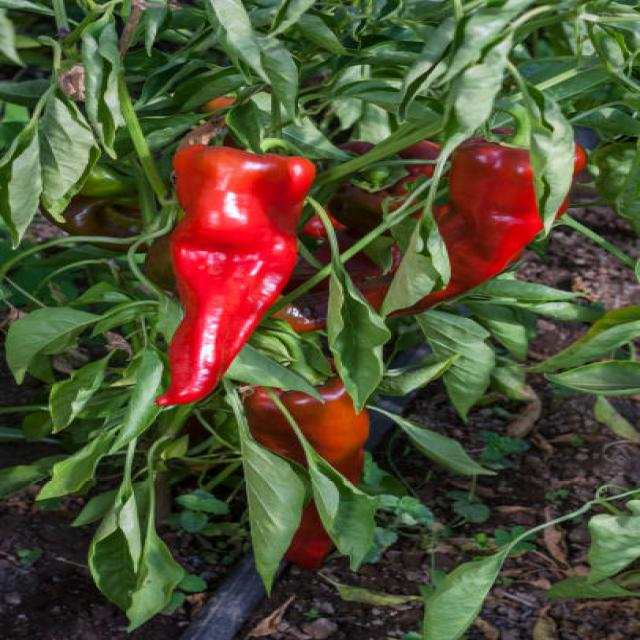Ripe: (162, 144, 320, 408), (413, 140, 539, 313)
